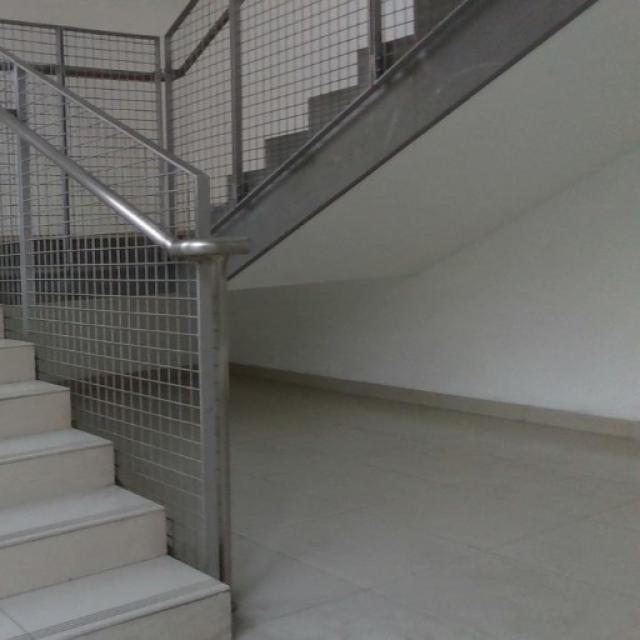stair: (0, 382, 212, 620)
